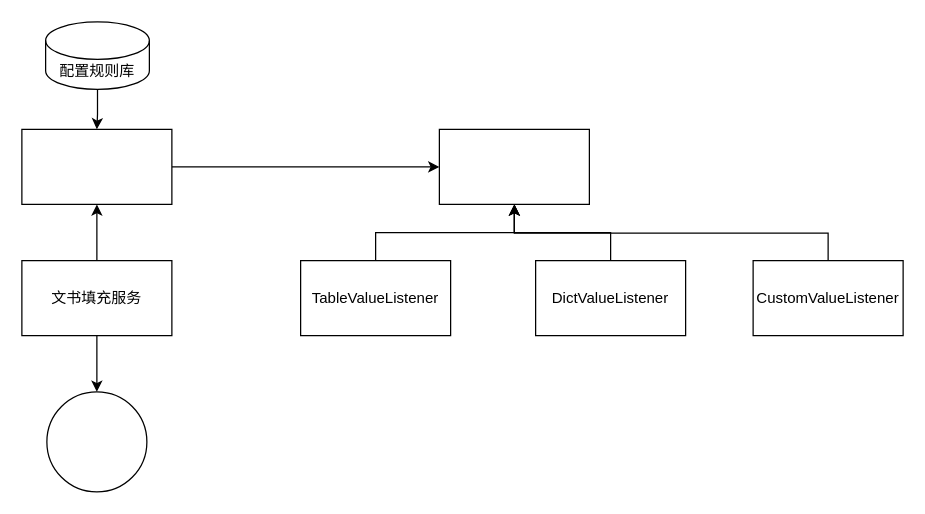
Image size: 925x514. Some labels were removed from this diagram. Here are the shapes that lost their labels. From the top down, the centre of each, then its label:
the point at 96,166: 带入值规则Loader
the point at 513,166: ValueLIstener
the point at 96,441: 文书页面
